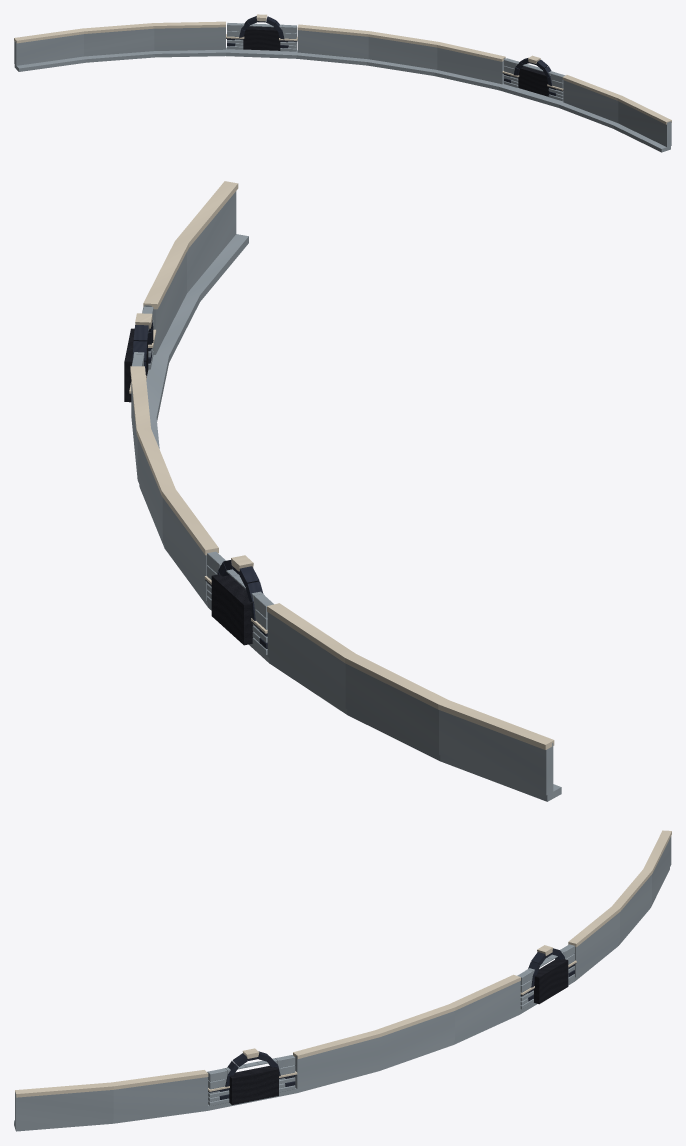
The model's file is COL_Vomitoria_Q4.glb.
3 views of the same model, one above another, from view 1: azimuth 30°, elevation 25°; view 2: azimuth 150°, elevation 25°; view 3: azimuth 270°, elevation 25° (orthographic). The views are drawn at different scales.
Visible parts, largest first — view 1: COL_Vomitoria_Q4; view 2: COL_Vomitoria_Q4; view 3: COL_Vomitoria_Q4.
Boxes of the visible parts, <box> form: COL_Vomitoria_Q4: <box>14,14,671,152</box>; COL_Vomitoria_Q4: <box>124,181,561,801</box>; COL_Vomitoria_Q4: <box>14,830,671,1131</box>.
Size of the model in its own units: 97.89 by 8.56 by 103.
Materials: 4 (4 with a texture image).
